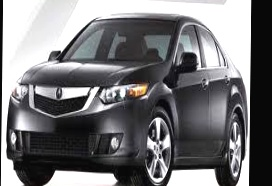car: (3, 6, 251, 186)
